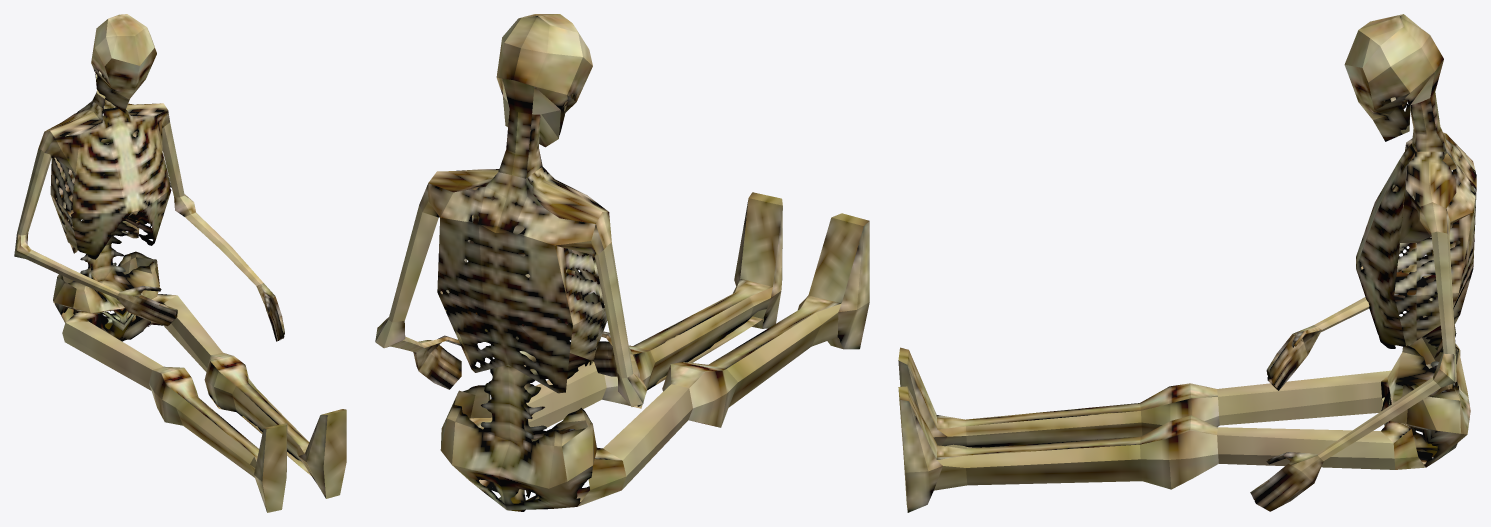
The model's file is Bone Patrol Test.fbx.
3 renders of one model, left to right at view 1: azimuth 30°, elevation 25°; view 2: azimuth 150°, elevation 25°; view 3: azimuth 270°, elevation 25°, orthographic. The views are drawn at different scales.
Visible parts, largest first — view 1: PSX_Skeleton_Army; view 2: PSX_Skeleton_Army; view 3: PSX_Skeleton_Army.
Boxes of the visible parts, x1,y1,x2,y2 form: PSX_Skeleton_Army: (14, 14, 346, 512); PSX_Skeleton_Army: (375, 14, 869, 511); PSX_Skeleton_Army: (898, 14, 1476, 512).
Bounding box in the file's own units: 64.73 × 107 × 118.
1 material, 1 textured.
